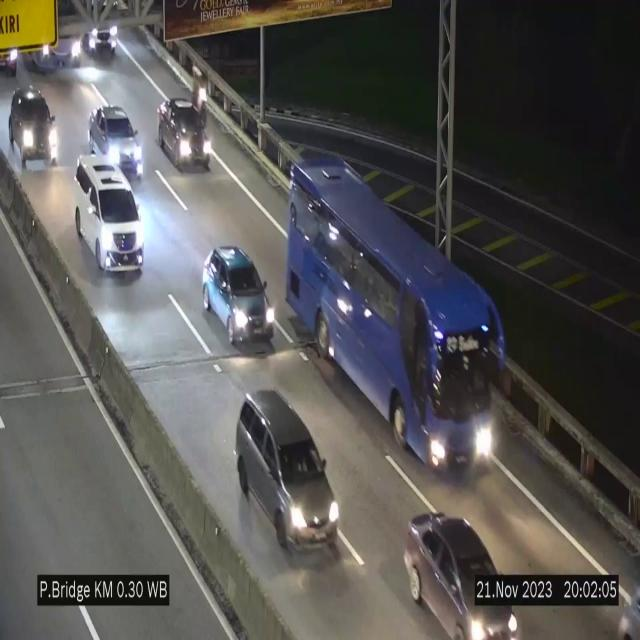Bus: (284, 151, 496, 469), (26, 0, 93, 78)
Car: (231, 396, 345, 554), (404, 514, 516, 640), (75, 155, 144, 273), (202, 246, 274, 350), (156, 95, 212, 180), (10, 86, 64, 171), (90, 105, 144, 177), (0, 31, 25, 83)
Motorcycle: (190, 64, 210, 124)
Truck: (86, 7, 128, 58)
